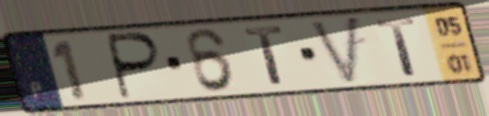1: (49, 38, 89, 103)
6: (182, 26, 235, 95)
P: (106, 30, 165, 102)
T: (372, 15, 422, 78), (240, 24, 287, 88)
V: (307, 13, 363, 88)
